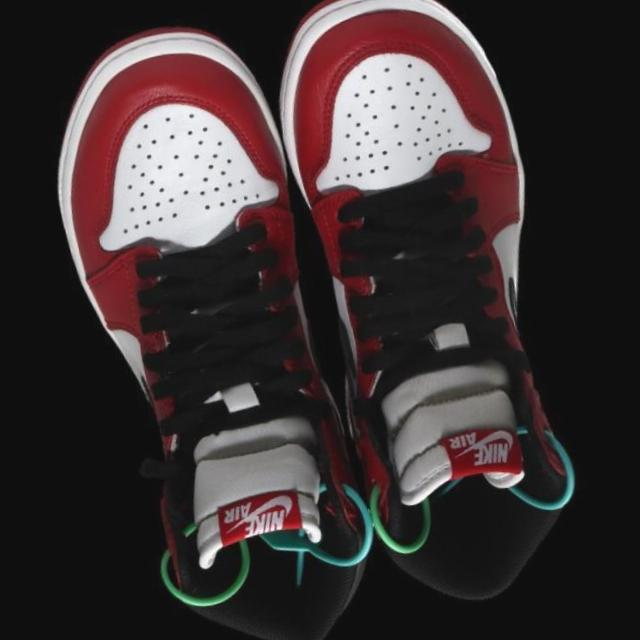nike_original_jordan: (18, 0, 397, 640), (252, 0, 616, 631)
